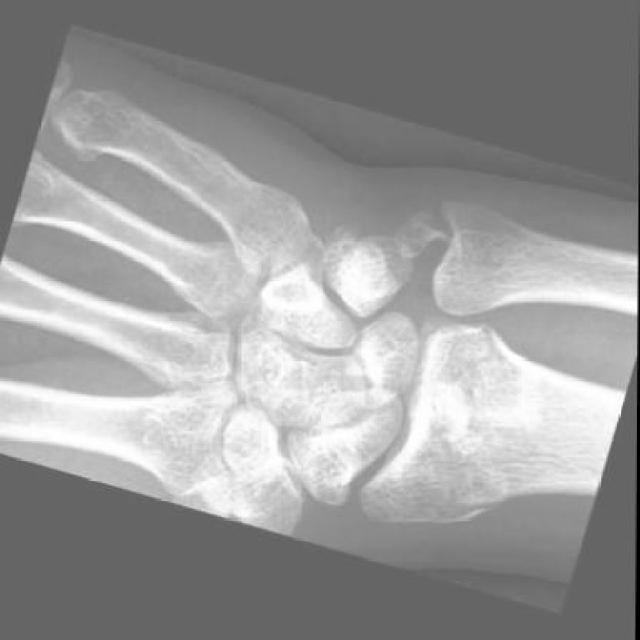Fracture: (385, 191, 473, 270)
